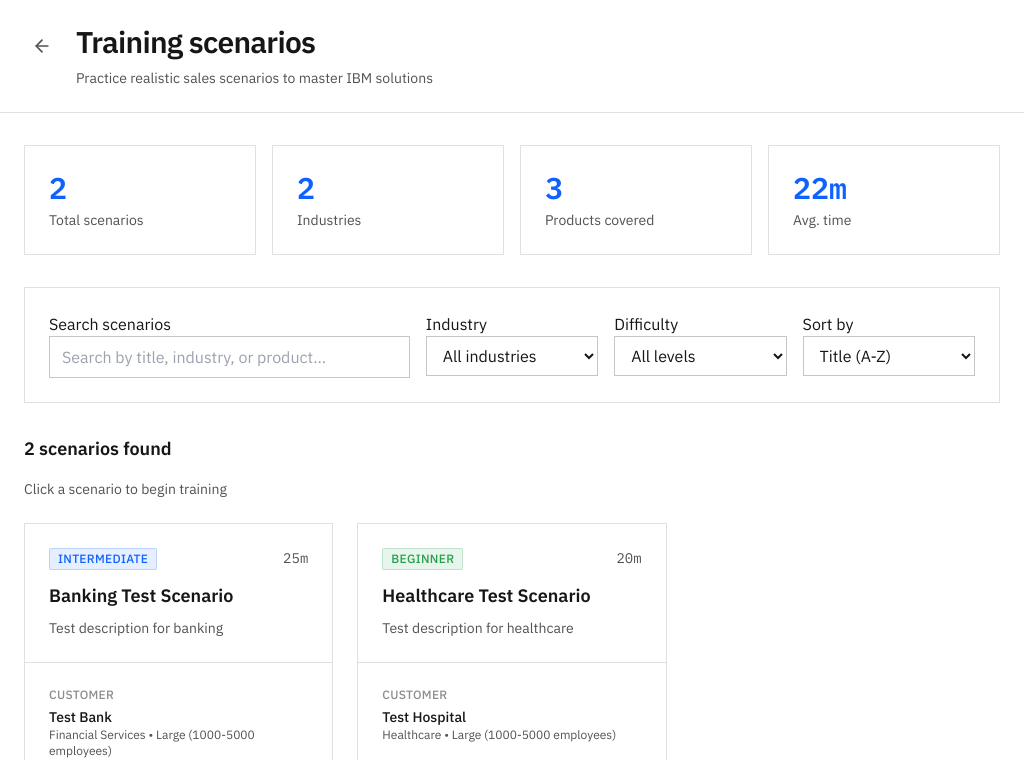
Test case: ScenarioLibraryPage › Accessibility › should have aria-labels for close buttons
Type "test" into the field with placeholder "Search by title, industry, or product..." at (229, 357), box left=49, top=336, right=410, bottom=378
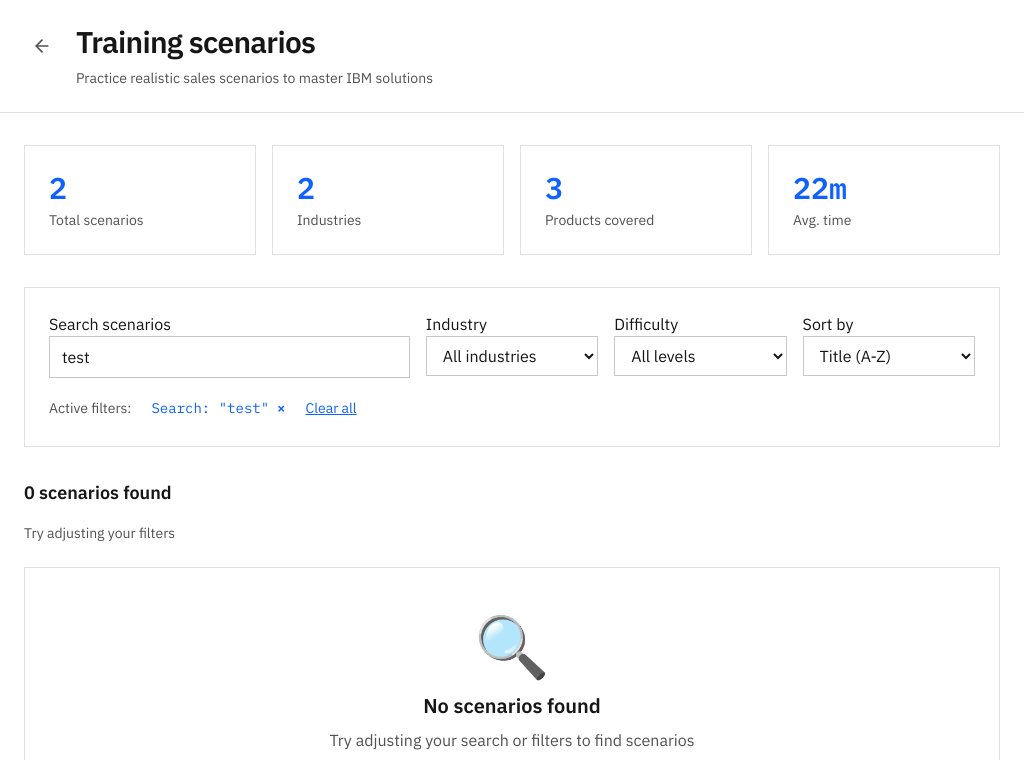
Result: the button named "clear search" is shown at left=277, top=398, right=286, bottom=418
